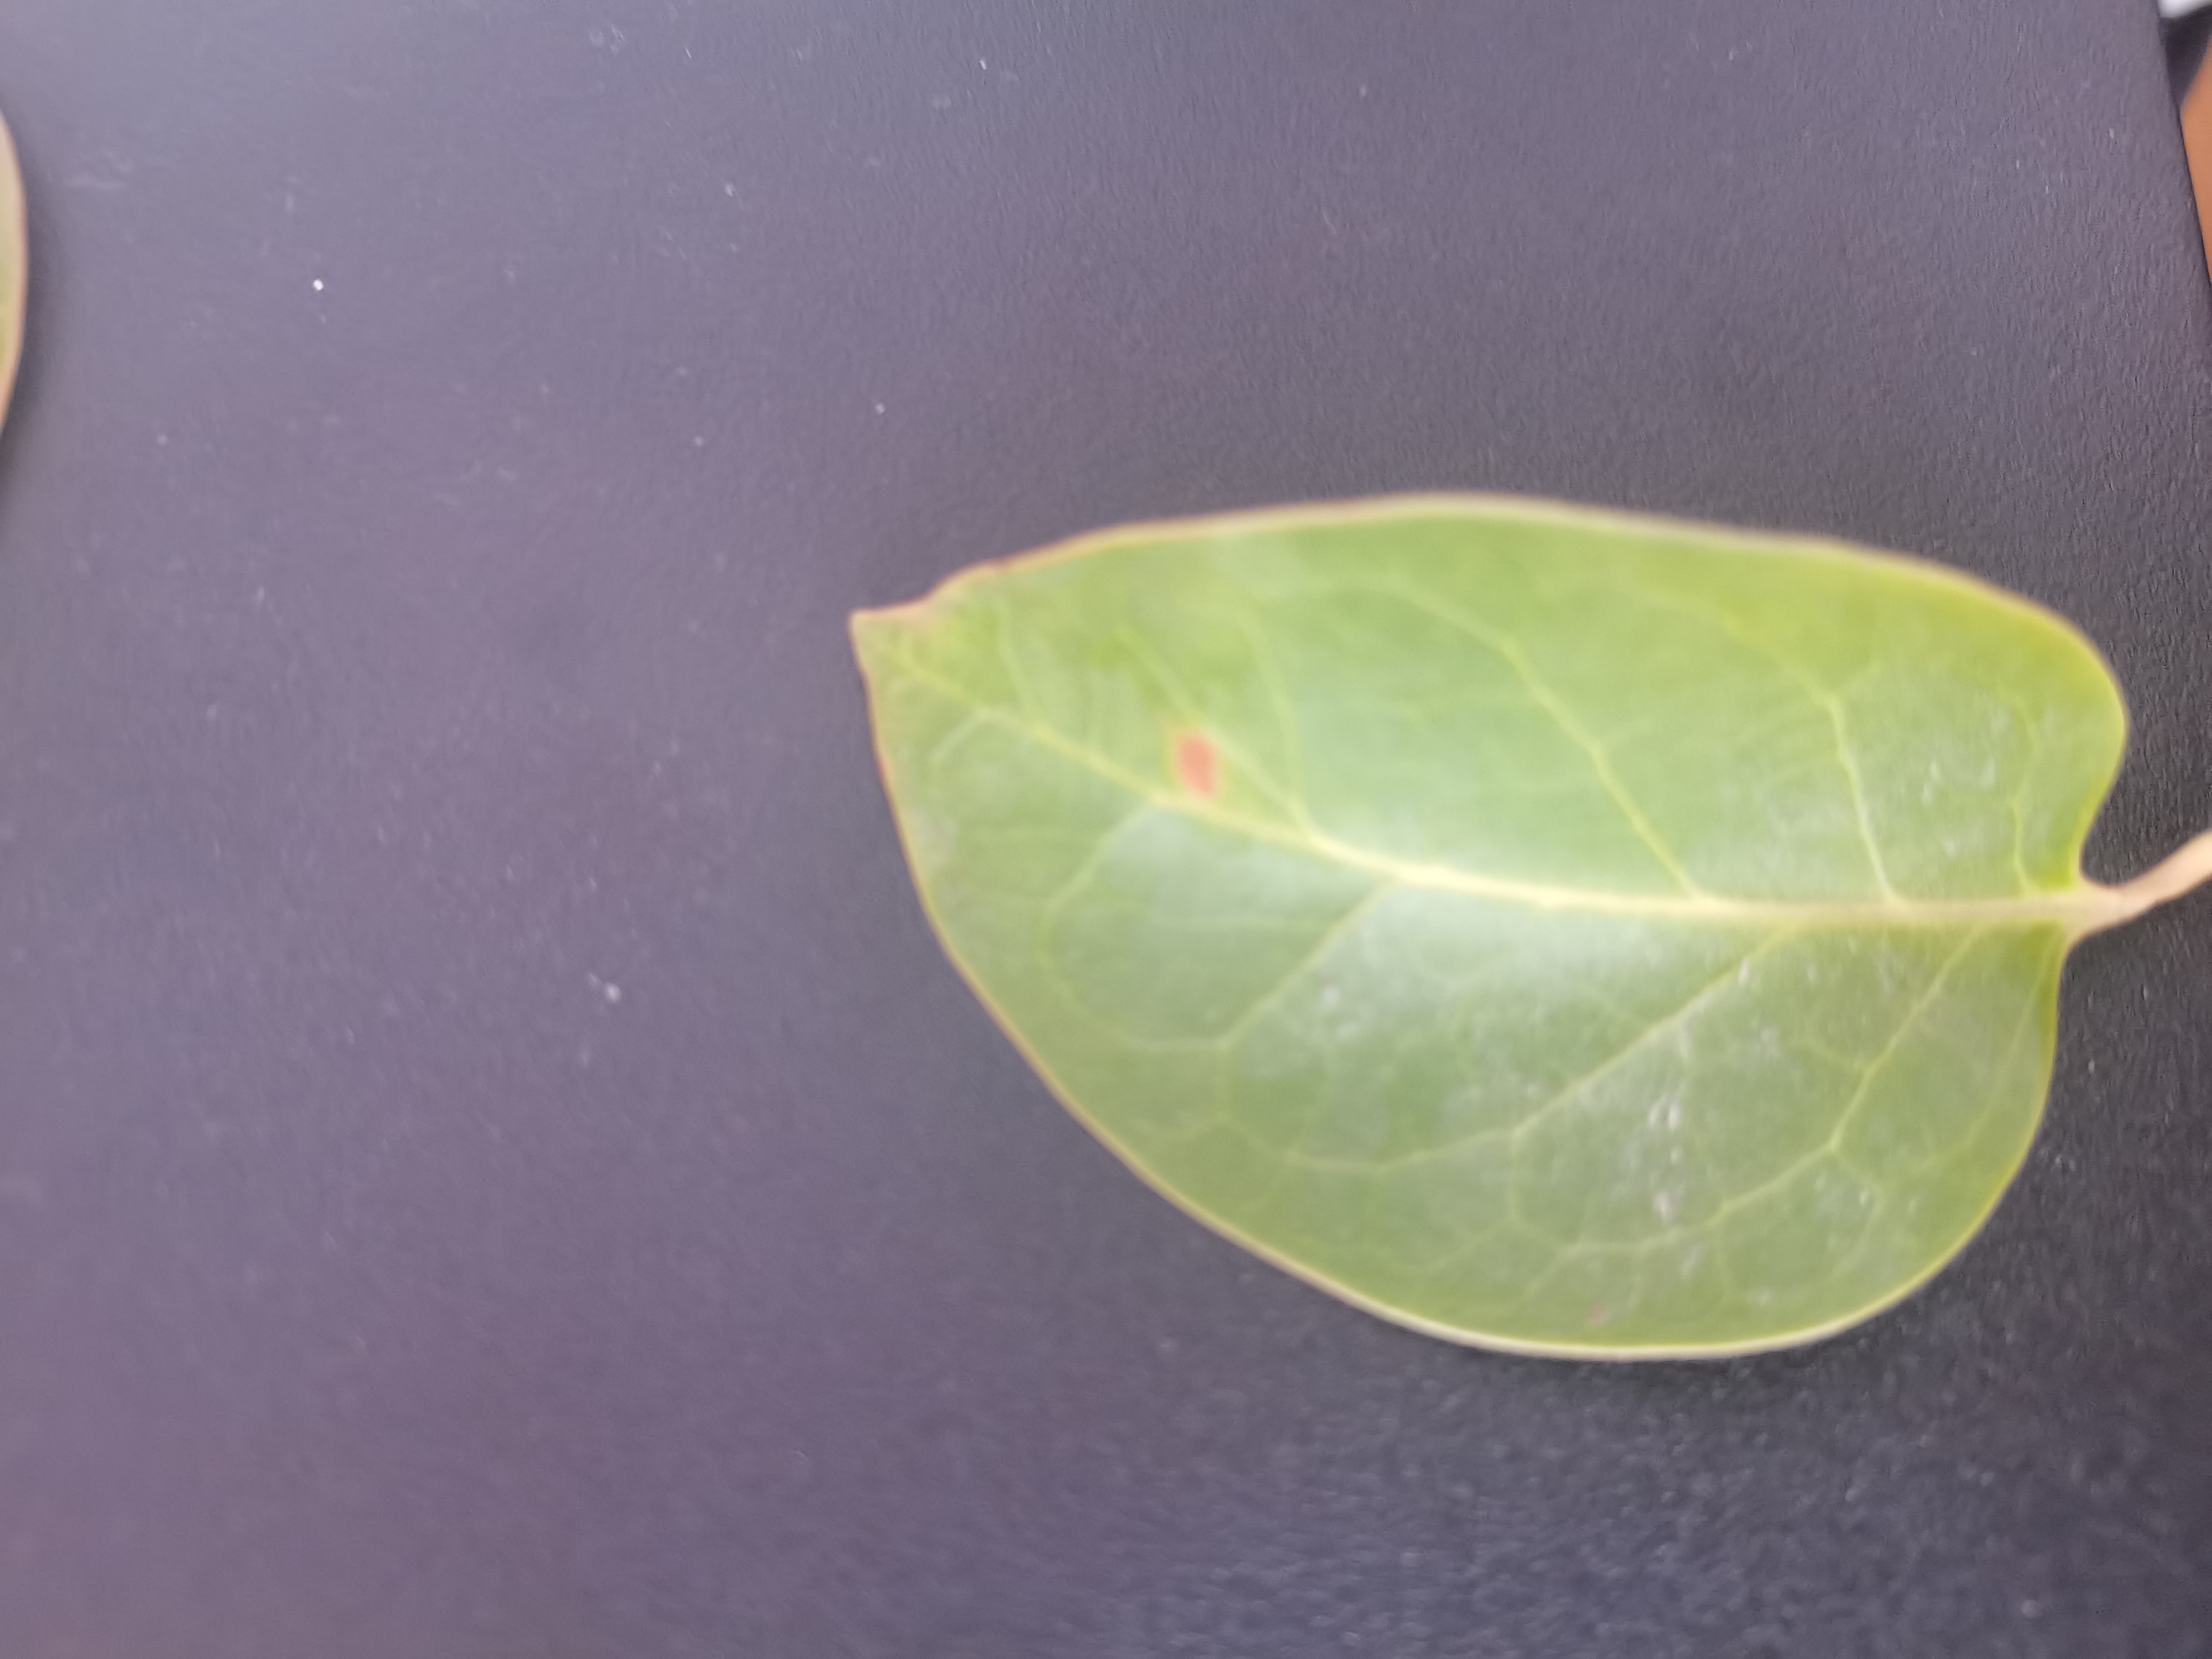4/易腐垃圾/叶子: (841, 481, 2212, 1366)
